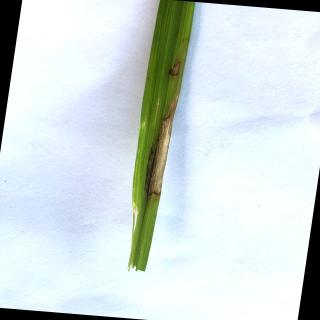Hawar-Daun: (146, 95, 182, 196), (169, 59, 182, 78)
